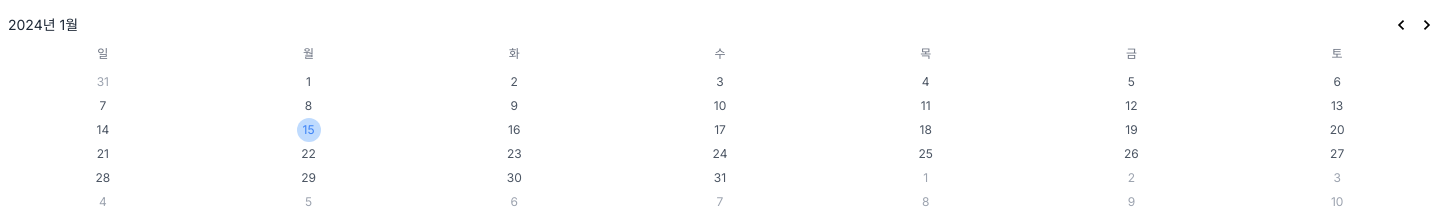
Test case: 미니달력의 왼쪽 버튼을 클릭 시 전달로 넘어간다.
// 왼쪽 버튼 클릭
Click the button named "left button" at point(1401, 25), box [1388, 12, 1414, 38]
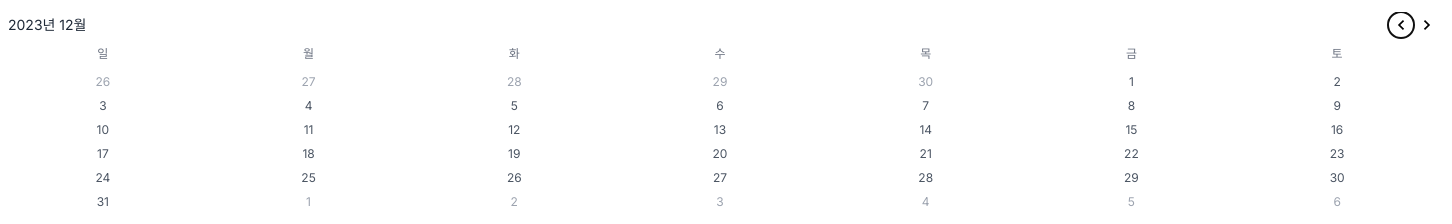
Result: the text named "mini calendar display year and month" reads "2023년 12월" at [8, 16, 86, 33]
